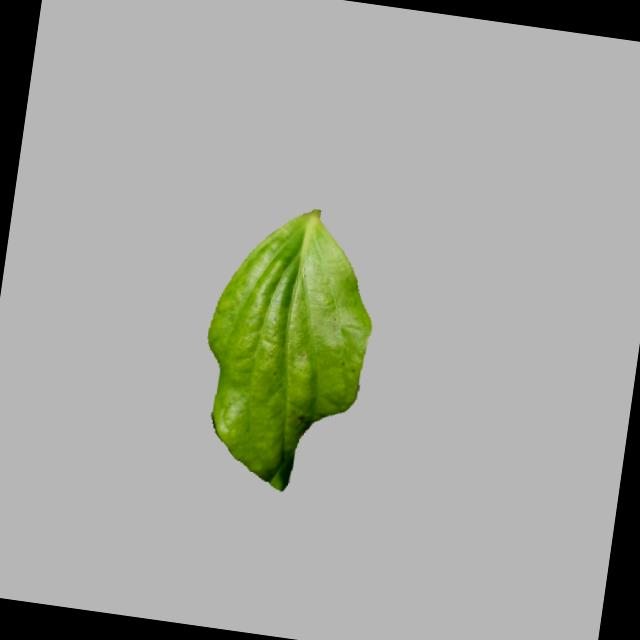yellow-mottle-virus: (185, 192, 388, 499)
